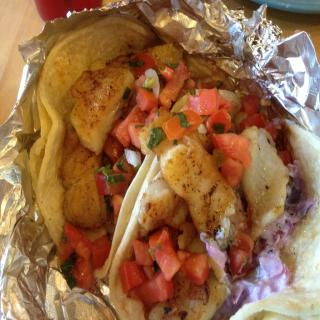Salad: (63, 46, 314, 320)
